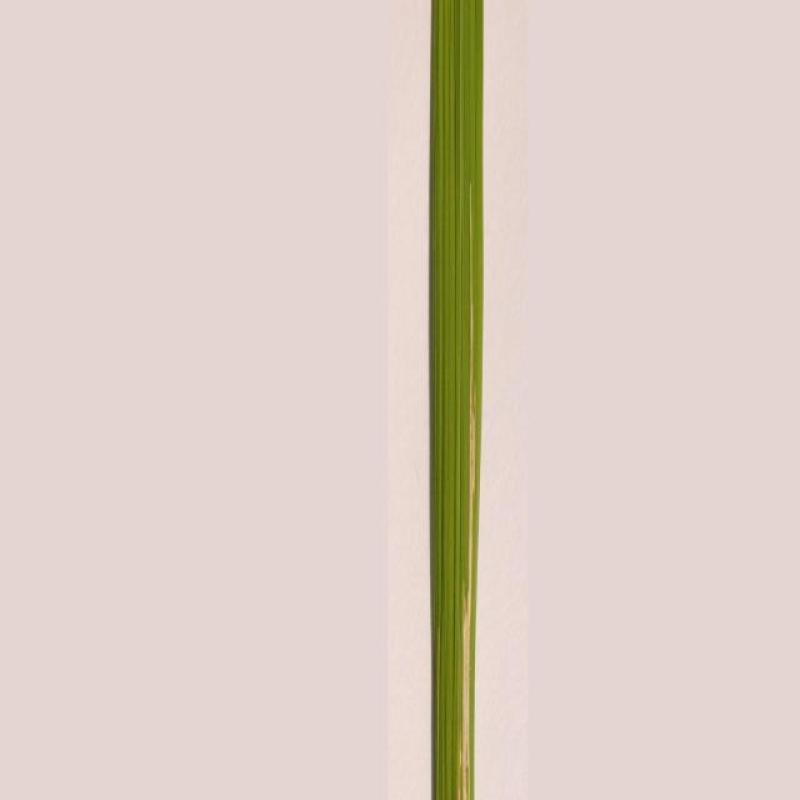Bacterial_Leaf_Blight: (441, 262, 494, 800)
